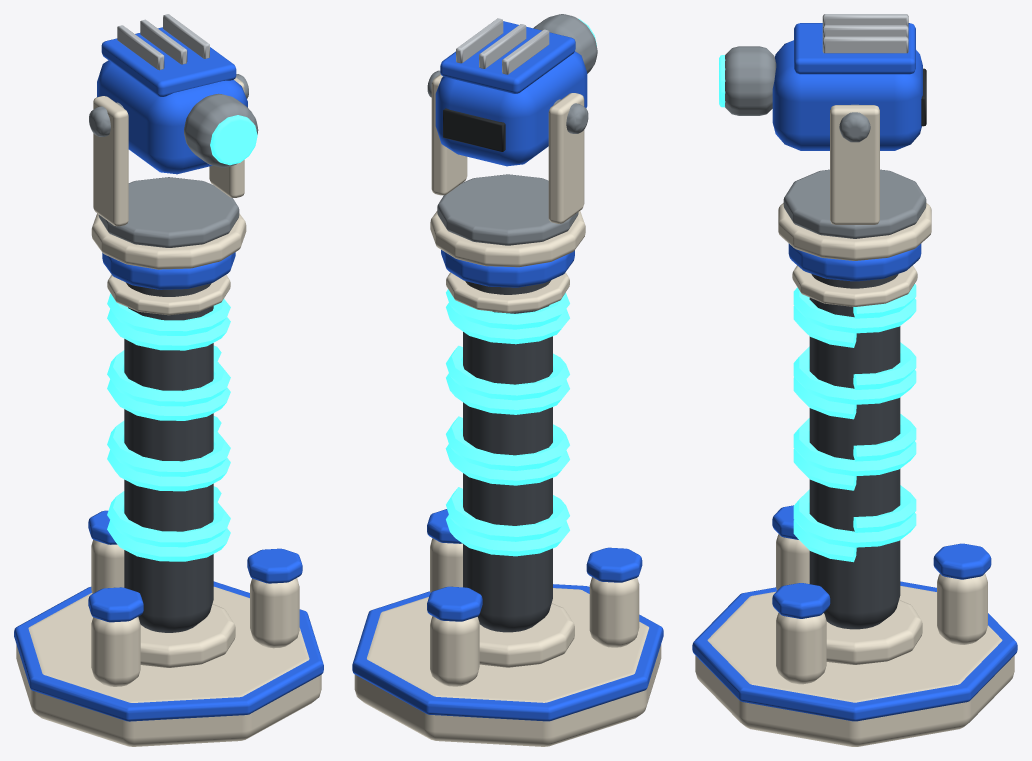
The model's file is laser_tower.glb.
The picture shows the model from 3 angles, left to right: view 1: azimuth 30°, elevation 25°; view 2: azimuth 150°, elevation 25°; view 3: azimuth 270°, elevation 25°; orthographic projection.
Visible parts, largest first — view 1: stage_1__M_CreamPlastic, stage_2__M_SmokePlastic, stage_1__M_Team, barrel__M_Team, turret__M_SpringSteel, stage_3__M_CreamPlastic, turret__M_CreamPlastic, coil_0__M_E_Cyan, coil_2__M_E_Cyan, coil_1__M_E_Cyan, coil_3__M_E_Cyan, barrel__M_SpringSteel (+3 smaller); view 2: stage_1__M_CreamPlastic, stage_2__M_SmokePlastic, stage_1__M_Team, barrel__M_Team, turret__M_SpringSteel, stage_3__M_CreamPlastic, turret__M_CreamPlastic, coil_1__M_E_Cyan, coil_0__M_E_Cyan, coil_2__M_E_Cyan, coil_3__M_E_Cyan, barrel__M_Foil (+3 smaller); view 3: stage_1__M_CreamPlastic, stage_2__M_SmokePlastic, barrel__M_Team, stage_1__M_Team, stage_3__M_CreamPlastic, turret__M_SpringSteel, turret__M_CreamPlastic, coil_0__M_E_Cyan, coil_2__M_E_Cyan, coil_1__M_E_Cyan, barrel__M_SpringSteel, coil_3__M_E_Cyan (+2 smaller).
Part boxes in pixels (box(x1,y1,x2,y2)): stage_1__M_CreamPlastic: box(16, 540, 321, 746); stage_2__M_SmokePlastic: box(124, 282, 213, 632); stage_1__M_Team: box(14, 510, 323, 721); barrel__M_Team: box(97, 27, 247, 174); turret__M_SpringSteel: box(98, 177, 239, 247); stage_3__M_CreamPlastic: box(91, 213, 246, 315); turret__M_CreamPlastic: box(93, 77, 244, 226); coil_0__M_E_Cyan: box(107, 486, 230, 561); coil_2__M_E_Cyan: box(107, 345, 230, 420); coil_1__M_E_Cyan: box(107, 416, 230, 491); coil_3__M_E_Cyan: box(107, 293, 230, 350); barrel__M_SpringSteel: box(89, 74, 258, 167); stage_1__M_CreamPlastic: box(354, 538, 661, 746); stage_2__M_SmokePlastic: box(463, 280, 552, 632); stage_1__M_Team: box(352, 509, 663, 721); barrel__M_Team: box(435, 21, 587, 166); turret__M_SpringSteel: box(437, 174, 578, 245); stage_3__M_CreamPlastic: box(430, 211, 585, 312); turret__M_CreamPlastic: box(431, 74, 584, 223); coil_1__M_E_Cyan: box(445, 416, 569, 485); coil_0__M_E_Cyan: box(446, 487, 569, 556); coil_2__M_E_Cyan: box(446, 345, 569, 414); coil_3__M_E_Cyan: box(446, 289, 569, 344); barrel__M_Foil: box(456, 18, 549, 74); stage_1__M_CreamPlastic: box(695, 534, 1014, 746); stage_2__M_SmokePlastic: box(809, 274, 900, 629); barrel__M_Team: box(772, 23, 922, 150); stage_1__M_Team: box(692, 505, 1017, 721); stage_3__M_CreamPlastic: box(778, 203, 931, 306); turret__M_SpringSteel: box(783, 169, 926, 238); turret__M_CreamPlastic: box(830, 105, 879, 224); coil_0__M_E_Cyan: box(793, 485, 916, 562); coil_2__M_E_Cyan: box(793, 342, 916, 419); coil_1__M_E_Cyan: box(793, 414, 916, 490); barrel__M_SpringSteel: box(725, 46, 870, 142); coil_3__M_E_Cyan: box(793, 284, 916, 347).
Size of the model in its own units: 0.9076 by 2.03 by 0.9076.
